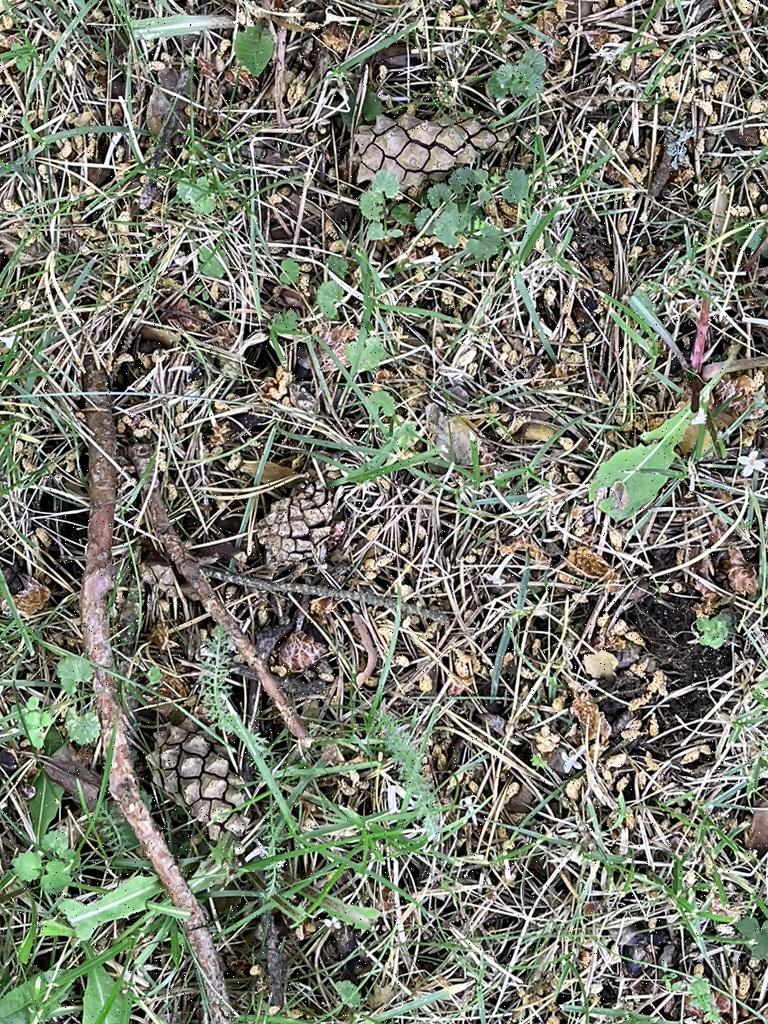pine: (341, 96, 526, 210), (151, 706, 274, 860), (251, 466, 346, 596)
